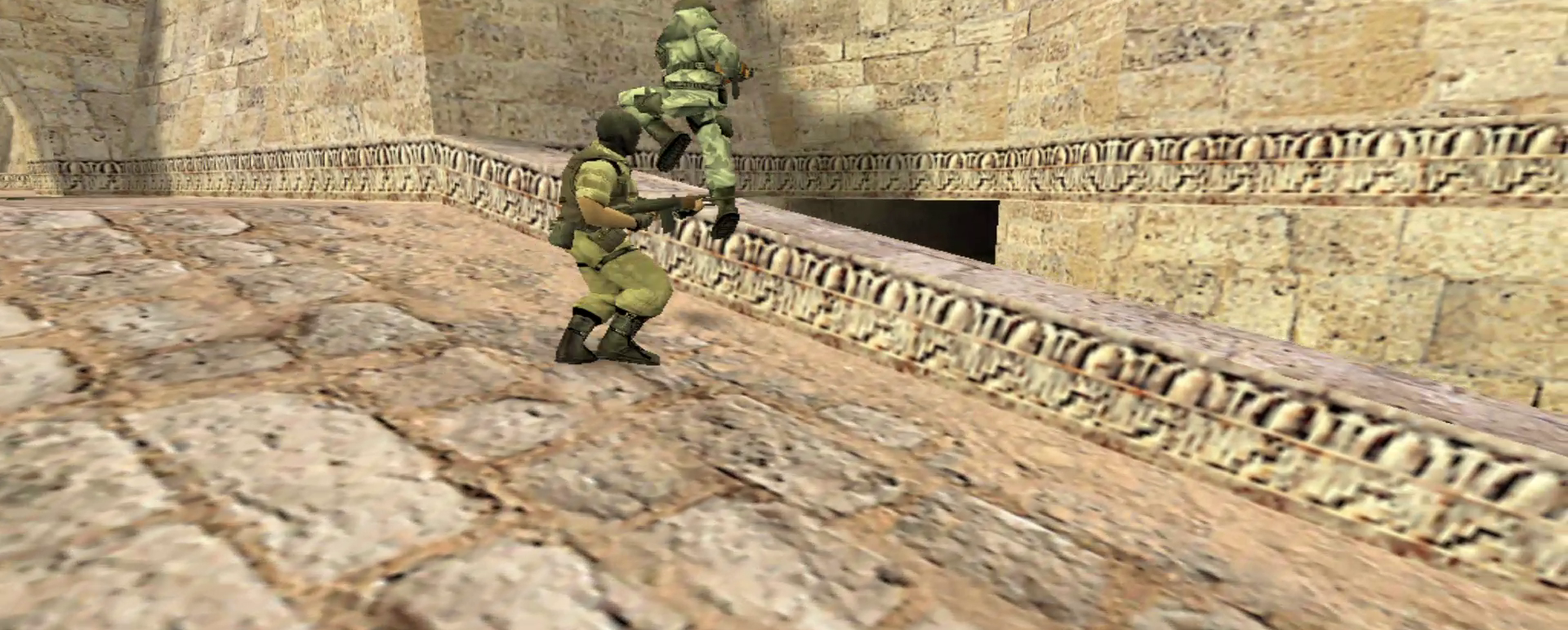ter: (552, 146, 666, 364), (648, 5, 744, 238)
ter_head: (596, 110, 644, 153)
